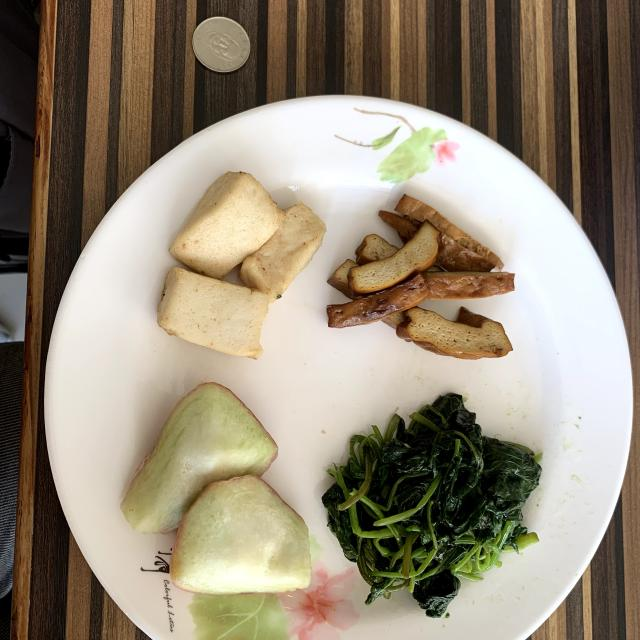coin: (192, 16, 250, 72)
creamy tofu -without sauce-: (158, 171, 325, 359)
firm tofu: (328, 195, 514, 359)
sweet potato leaves: (322, 394, 541, 618)
